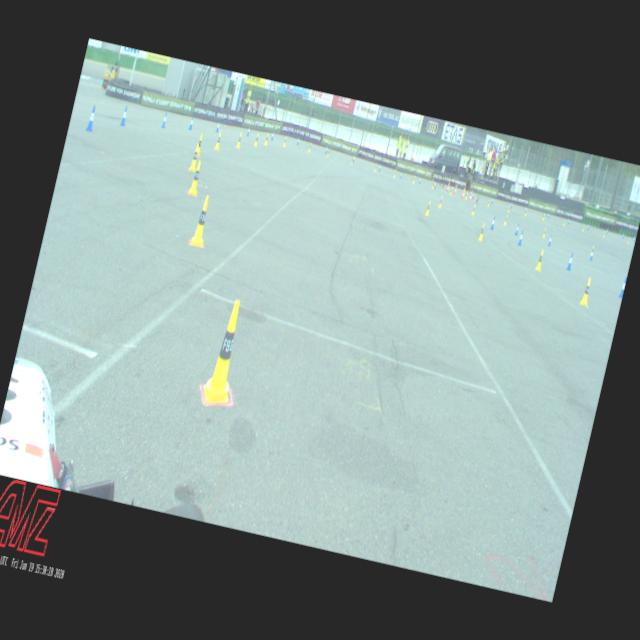blue_cone: (85, 105, 97, 131), (120, 106, 128, 126), (618, 277, 626, 297), (566, 252, 574, 270), (160, 112, 168, 128), (517, 230, 524, 246), (188, 116, 194, 130), (490, 216, 496, 229), (514, 223, 520, 235), (216, 120, 220, 132), (548, 234, 552, 245), (270, 130, 274, 140), (590, 250, 594, 260), (296, 136, 299, 146), (247, 126, 250, 136), (325, 145, 328, 154)
large_orange_cone: (461, 186, 466, 198), (446, 181, 450, 192), (453, 183, 457, 194), (468, 189, 472, 200)
yellow_cone: (200, 297, 250, 407), (190, 194, 213, 247), (188, 159, 204, 195), (579, 276, 593, 306), (188, 143, 200, 171), (535, 248, 545, 270), (196, 134, 204, 156), (478, 222, 486, 240), (215, 130, 222, 150), (235, 132, 242, 148), (424, 201, 432, 215), (253, 132, 260, 146), (470, 203, 476, 214), (264, 133, 269, 146), (503, 214, 508, 225), (438, 195, 442, 208), (542, 228, 546, 238), (308, 142, 312, 152), (283, 136, 287, 146), (326, 148, 329, 157), (590, 246, 593, 255)
